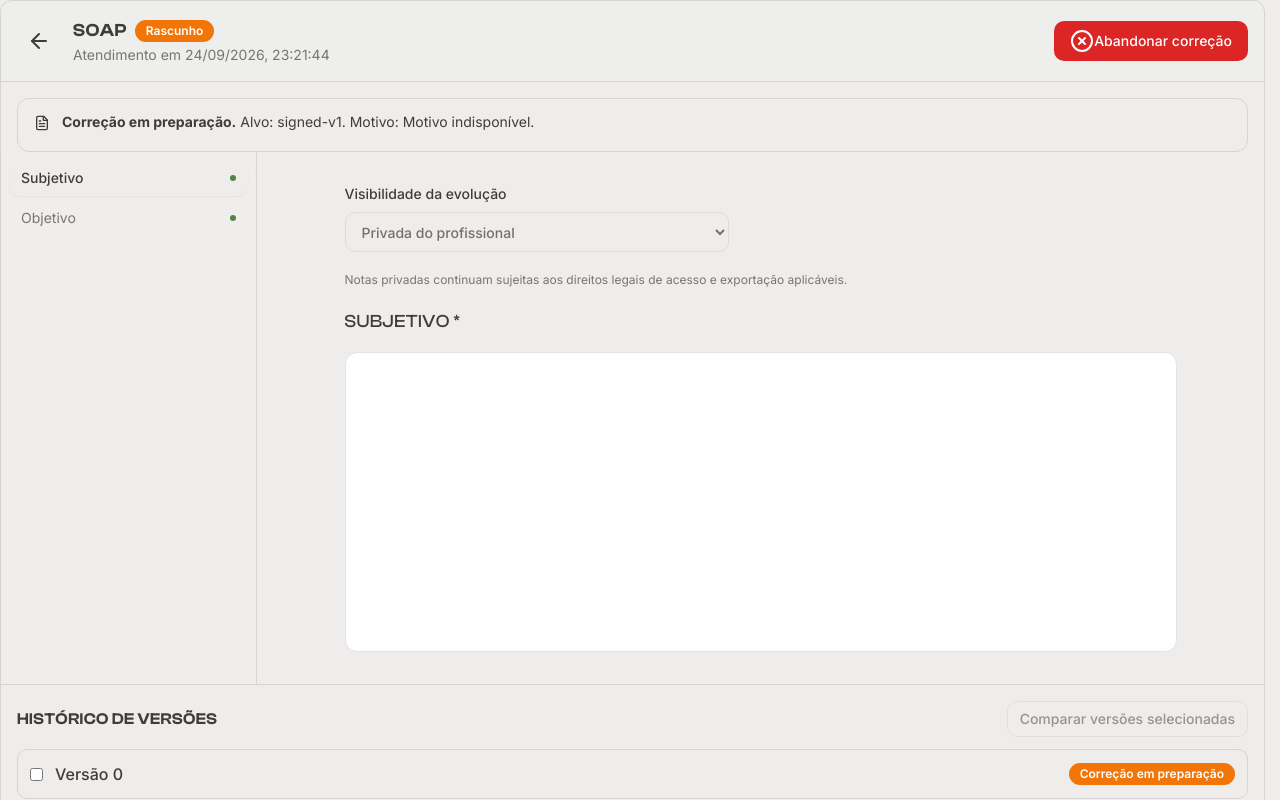
Scenario: EvolutionEditor › keeps the correction draft open and shows the hook error when abandonment fails
Click the button "Abandonar correção". click: (1151, 41)
box: [1054,21,1248,61]
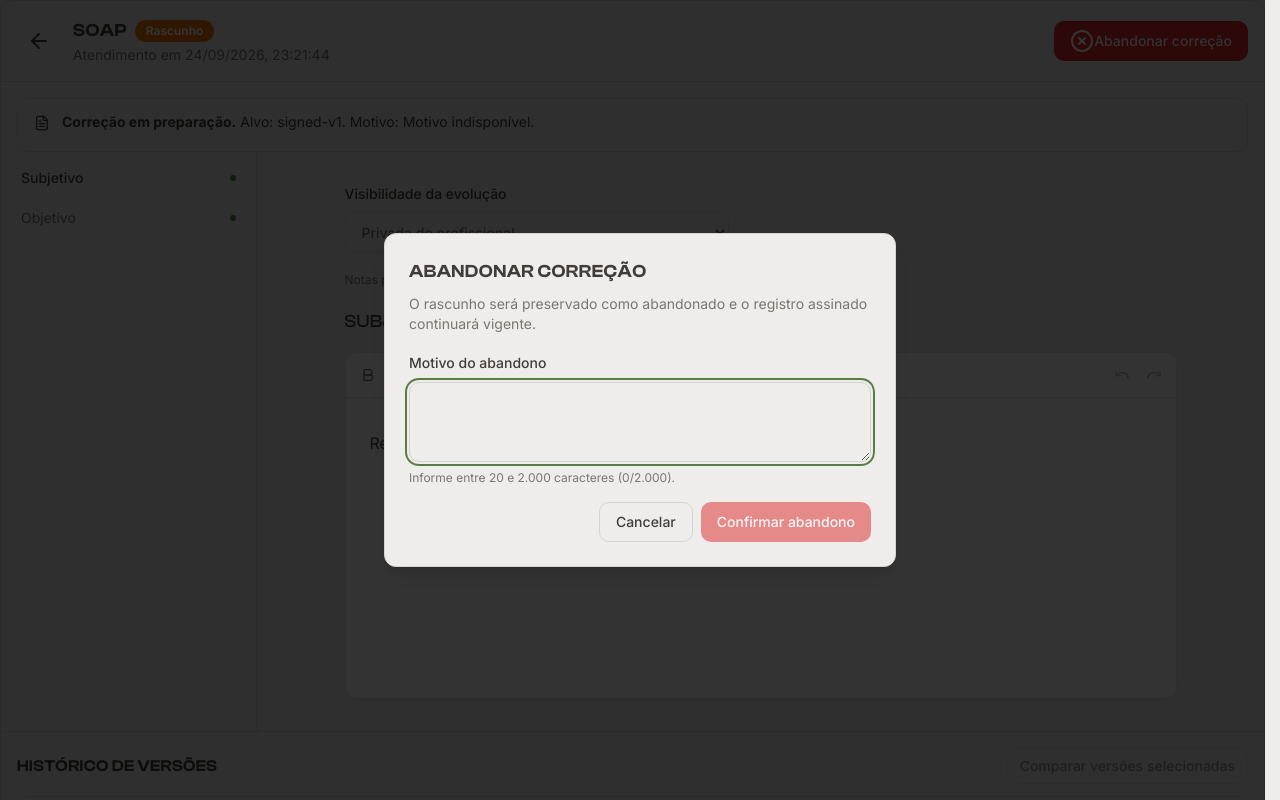
Type "Correção aberta por engano e sem alteração clínica válida." into the text box labelled "Motivo do abandono". click: (640, 422)
box: [409,382,871,462]
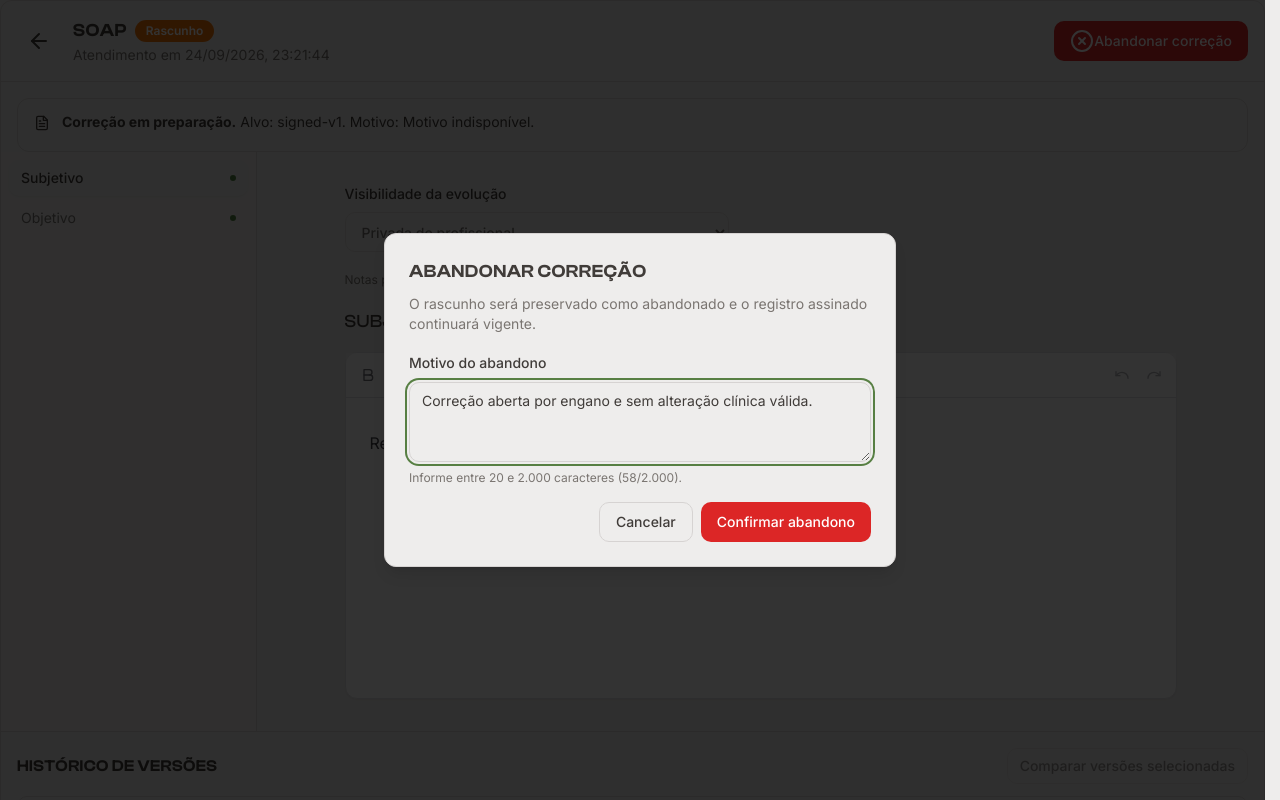
Click the button "Confirmar abandono". click: (786, 522)
box: [701,502,871,542]
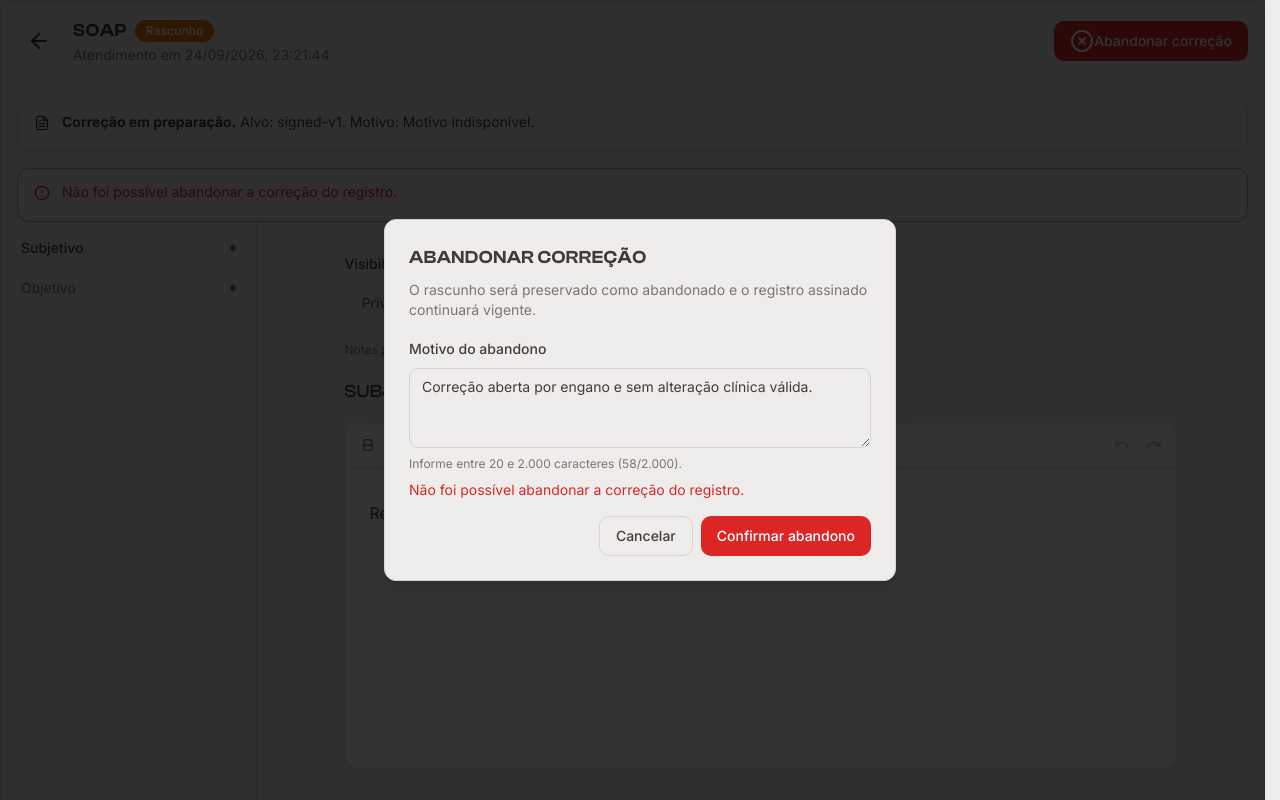
Check: the dialog is shown, box [384,219,896,581]
Check: the message shows "Não foi possível abandonar a correção", box [409,481,744,498]
